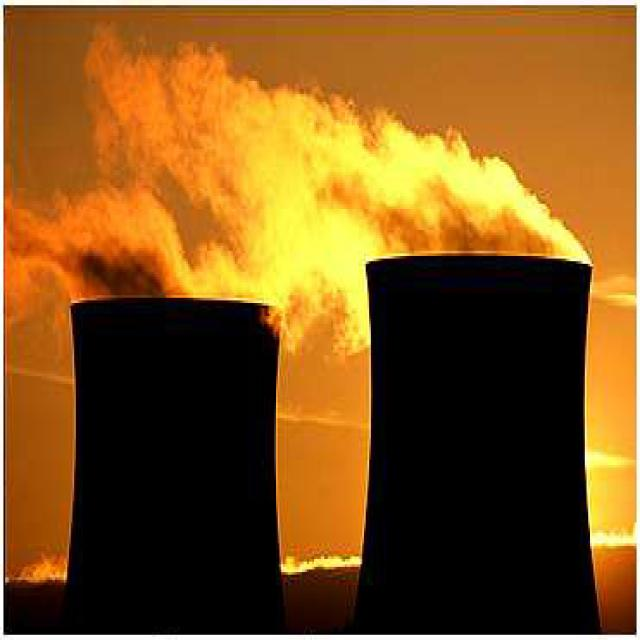smoke: (5, 29, 588, 347)
